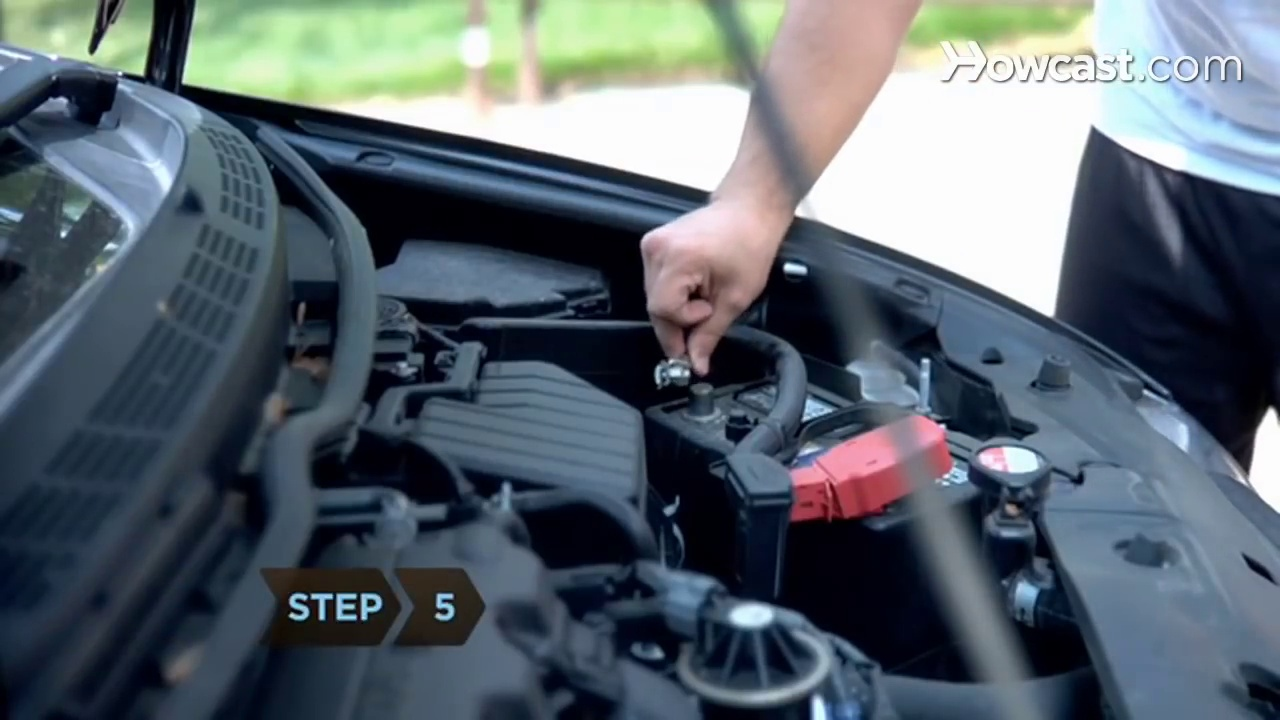battery: (636, 375, 1001, 552)
neg_disconnected: (639, 330, 721, 414)
neg_touched: (624, 224, 739, 429)
pos_connected: (766, 435, 960, 535)
